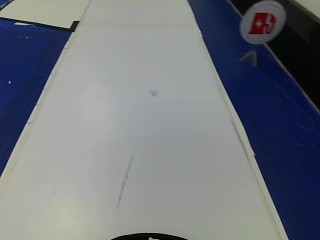battery: (240, 4, 281, 45)
